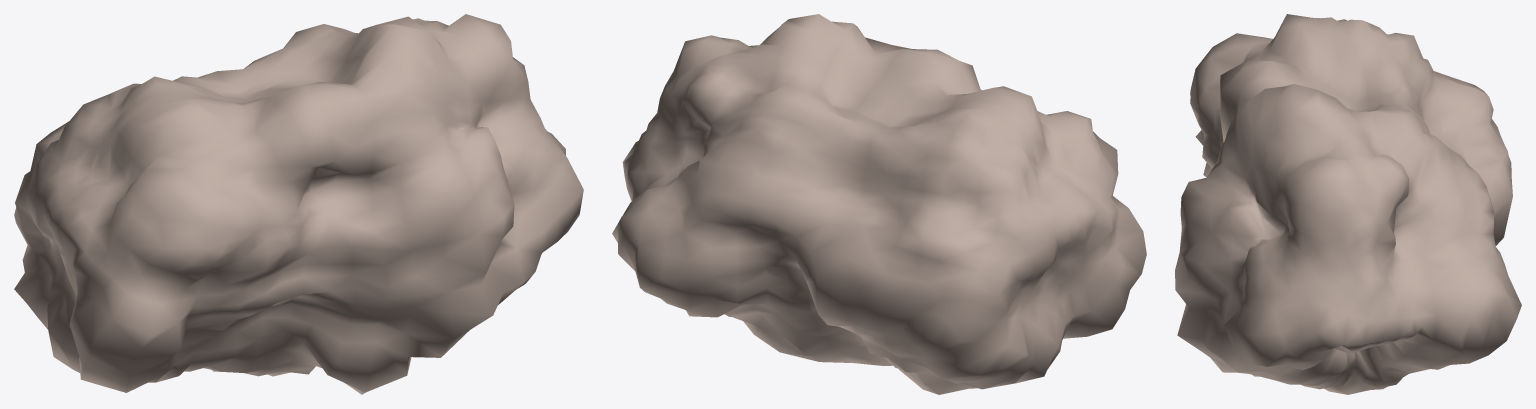
The model's file is Rocky_Asteroid_2.glb.
3 views of the same model, side by side, from view 1: azimuth 30°, elevation 25°; view 2: azimuth 150°, elevation 25°; view 3: azimuth 270°, elevation 25° (orthographic). The views are drawn at different scales.
Parts seen in each view (by area): view 1: Rocky_Asteroid_2; view 2: Rocky_Asteroid_2; view 3: Rocky_Asteroid_2.
Part boxes in pixels (left/top/right/bottom): Rocky_Asteroid_2: left=14, top=14, right=583, bottom=394; Rocky_Asteroid_2: left=612, top=14, right=1146, bottom=394; Rocky_Asteroid_2: left=1175, top=14, right=1521, bottom=394.
Bounding box in the file's own units: 0.9999 × 0.6315 × 0.6253.
